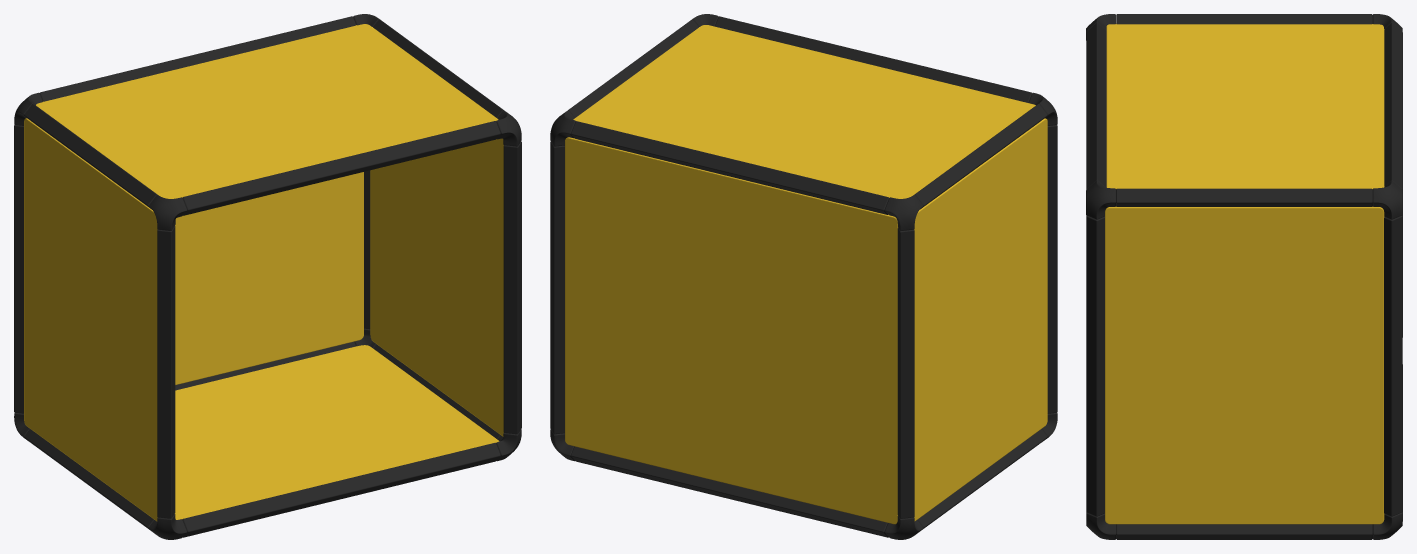
3 renders of one model, left to right at view 1: azimuth 30°, elevation 25°; view 2: azimuth 150°, elevation 25°; view 3: azimuth 270°, elevation 25°, orthographic. The views are drawn at different scales.
Parts seen in each view (by area): view 1: 479x329x420; view 2: 479x329x420; view 3: 479x329x420.
Part boxes in pixels (bbox=[...]): 479x329x420: bbox=[14, 14, 521, 539]; 479x329x420: bbox=[550, 14, 1057, 539]; 479x329x420: bbox=[1086, 14, 1402, 539].
Size of the model in its own units: 0.5567 by 0.4976 by 0.4063.
